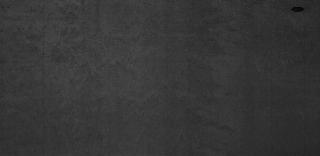punching hole: (290, 6, 306, 13)
silk spot: (2, 5, 286, 151)
